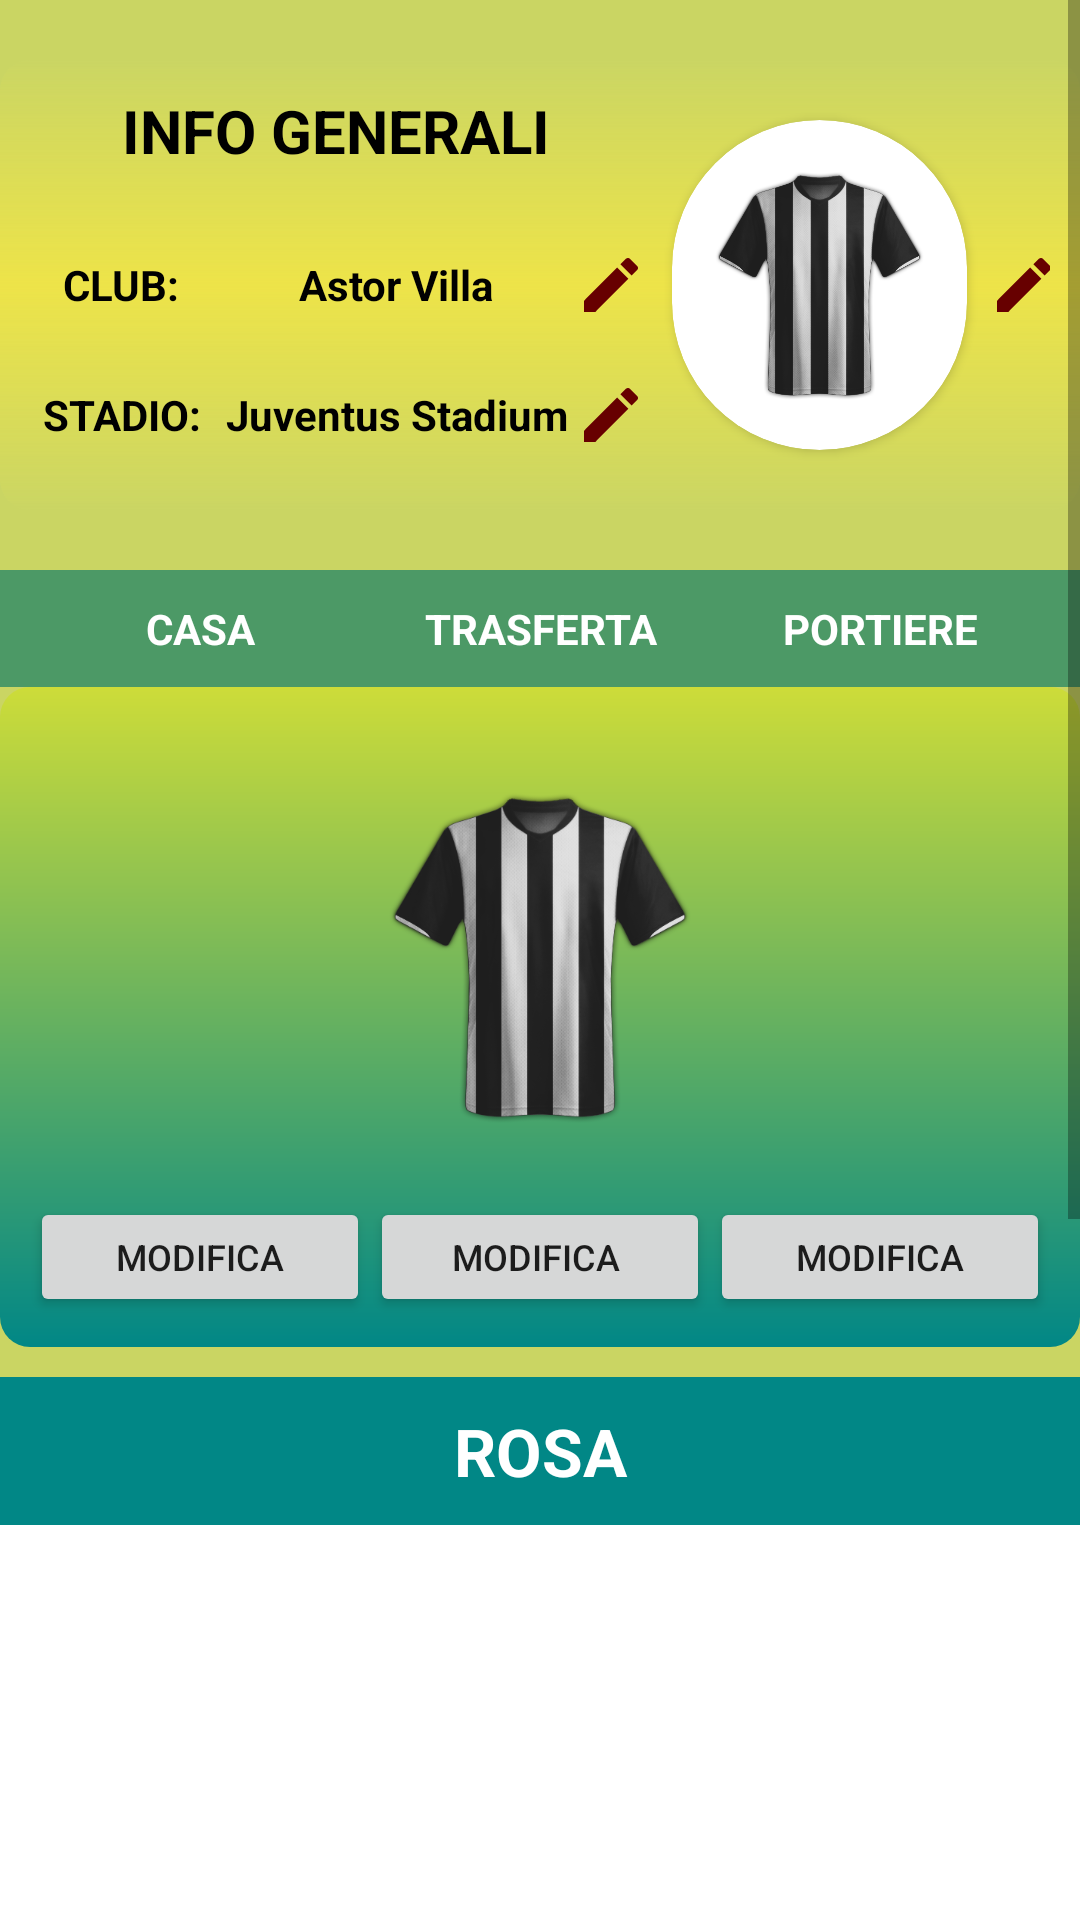

Icon click points for this 1080*1920 phone screenshot, format (x,y):
mode edit: (611,285), (1023,285), (611,434)
